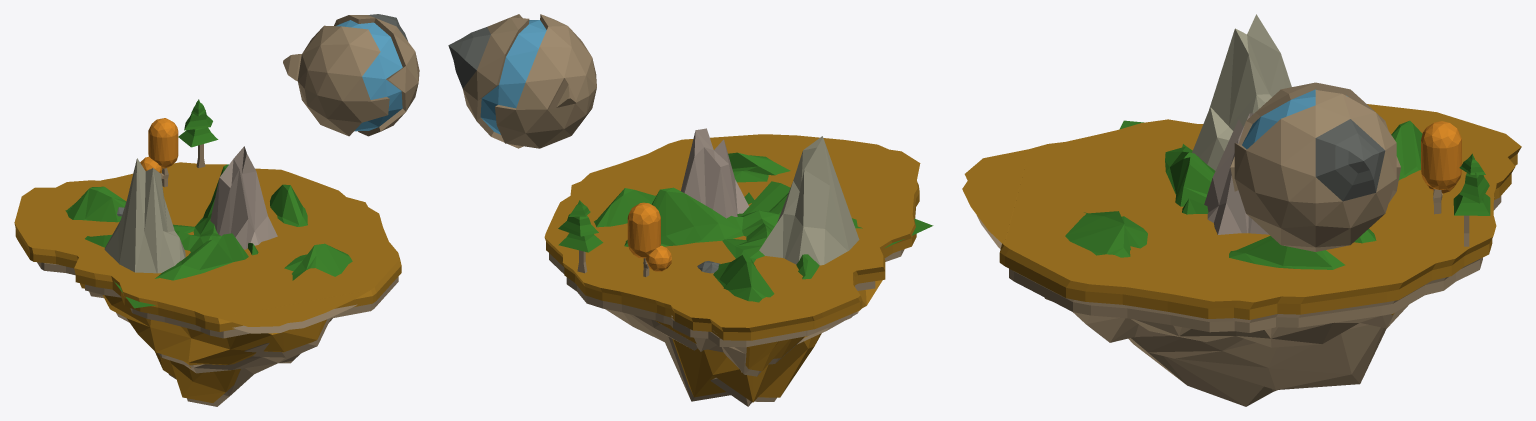
Rendered from ryuland.dae.
3 views of the same model, side by side, from view 1: azimuth 30°, elevation 25°; view 2: azimuth 150°, elevation 25°; view 3: azimuth 270°, elevation 25° (orthographic). The views are drawn at different scales.
Parts seen in each view (by area): view 1: Sphere, Sphere.5, Plane, Landscape, Sphere.1, Landscape.1, Capsule, Pyramid, Pyramid.2; view 2: Sphere, Sphere.5, Plane, Landscape, Sphere.1, Landscape.1, Capsule, Pyramid.2, Pyramid, Capsule.1; view 3: Sphere, Sphere.1, Sphere.5, Plane, Landscape, Landscape.1, Capsule, Pyramid, Pyramid.2.
Boxes of the visible parts, x1=… form: Sphere: x1=14, y1=162, x2=401, y2=402; Sphere.5: x1=283, y1=14, x2=419, y2=136; Plane: x1=65, y1=164, x2=352, y2=308; Landscape: x1=104, y1=158, x2=185, y2=273; Sphere.1: x1=37, y1=262, x2=398, y2=406; Landscape.1: x1=210, y1=146, x2=277, y2=249; Capsule: x1=148, y1=118, x2=178, y2=168; Pyramid: x1=178, y1=127, x2=218, y2=147; Pyramid.2: x1=184, y1=111, x2=212, y2=130; Sphere: x1=544, y1=134, x2=920, y2=402; Sphere.5: x1=448, y1=14, x2=596, y2=148; Plane: x1=594, y1=152, x2=933, y2=302; Landscape: x1=759, y1=136, x2=859, y2=265; Sphere.1: x1=549, y1=249, x2=904, y2=406; Landscape.1: x1=681, y1=128, x2=748, y2=218; Capsule: x1=627, y1=202, x2=660, y2=258; Pyramid.2: x1=558, y1=213, x2=598, y2=236; Pyramid: x1=558, y1=233, x2=603, y2=252; Capsule.1: x1=645, y1=245, x2=671, y2=271; Sphere: x1=962, y1=104, x2=1521, y2=319; Sphere.1: x1=976, y1=196, x2=1501, y2=406; Sphere.5: x1=1230, y1=82, x2=1400, y2=251; Plane: x1=1065, y1=120, x2=1422, y2=269; Landscape: x1=1192, y1=14, x2=1291, y2=170; Landscape.1: x1=1204, y1=113, x2=1268, y2=234; Capsule: x1=1421, y1=121, x2=1461, y2=189; Pyramid: x1=1453, y1=193, x2=1490, y2=215; Pyramid.2: x1=1459, y1=170, x2=1489, y2=203.
Bounding box in the file's own units: 693 × 574 × 664.
